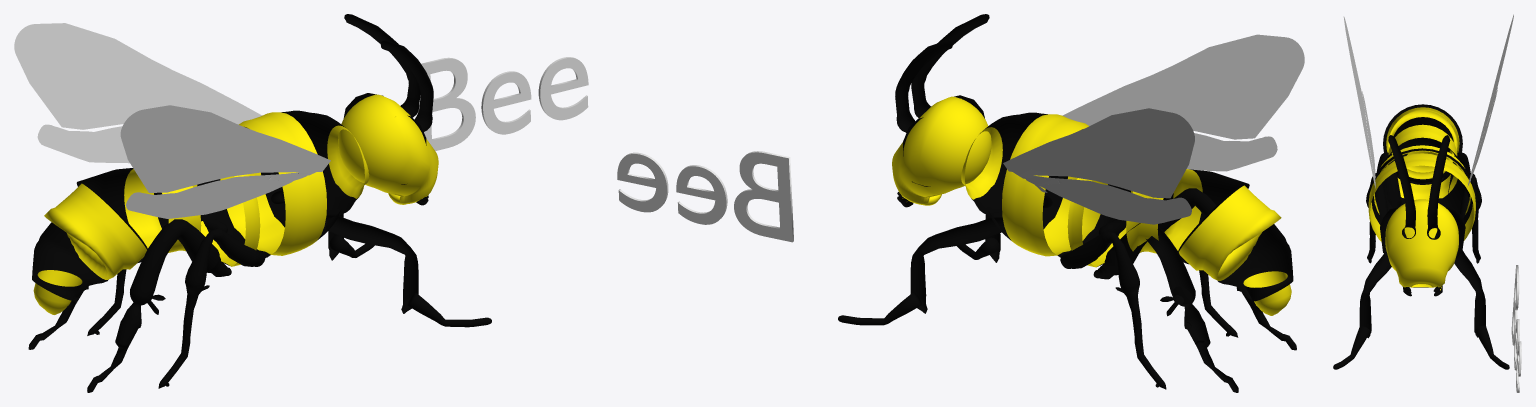
File: Bee.gltf
The picture shows the model from 3 angles, left to right: view 1: azimuth 30°, elevation 25°; view 2: azimuth 150°, elevation 25°; view 3: azimuth 270°, elevation 25°; orthographic projection. The views are drawn at different scales.
Visible parts, largest first — view 1: Bee, Text.011; view 2: Bee, Text.011; view 3: Bee, Text.011.
Part boxes in pixels (x1,y1,x2,y2): Bee: (14, 14, 491, 392); Text.011: (418, 57, 588, 150); Bee: (838, 14, 1304, 392); Text.011: (617, 151, 793, 242); Bee: (1333, 14, 1513, 369); Text.011: (1511, 265, 1521, 392).
Size of the model in its own units: 1.33 by 0.6267 by 0.4618.
